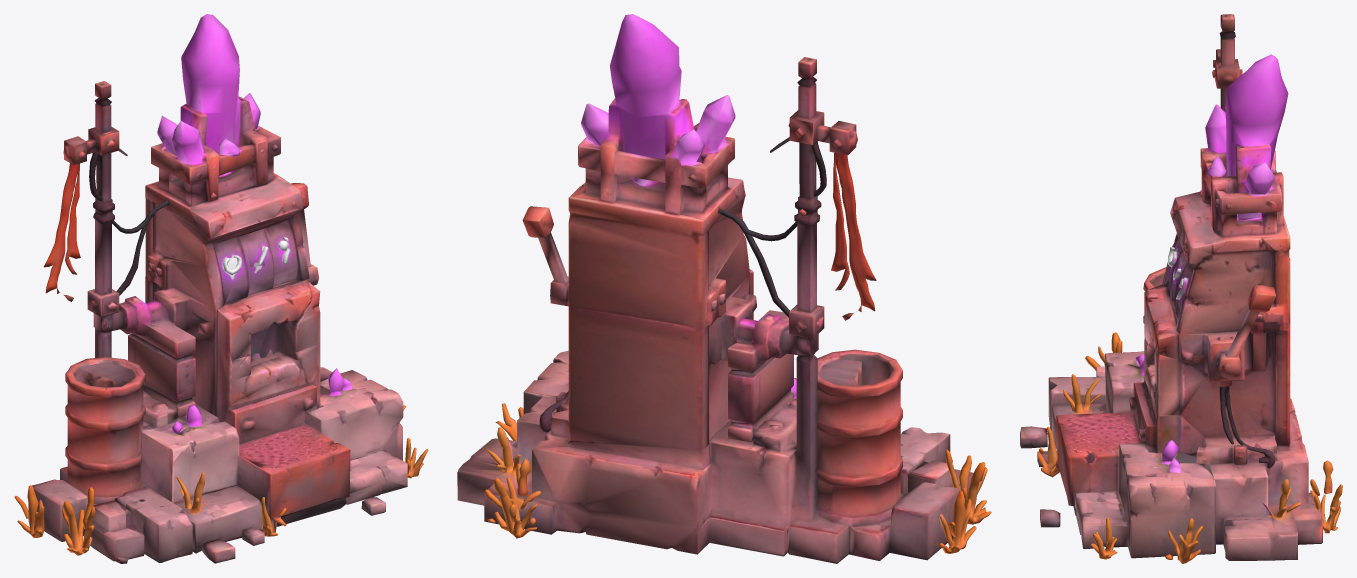
The model's file is gamble_shrine.glb.
3 renders of one model, left to right at view 1: azimuth 30°, elevation 25°; view 2: azimuth 150°, elevation 25°; view 3: azimuth 270°, elevation 25°, orthographic. The views are drawn at different scales.
Visible parts, largest first — view 1: tripo_node_52ba2512-e9d8-48b6-b34f-e7559de420ad; view 2: tripo_node_52ba2512-e9d8-48b6-b34f-e7559de420ad; view 3: tripo_node_52ba2512-e9d8-48b6-b34f-e7559de420ad.
Part boxes in pixels (bbox=[...]): tripo_node_52ba2512-e9d8-48b6-b34f-e7559de420ad: bbox=[14, 14, 428, 563]; tripo_node_52ba2512-e9d8-48b6-b34f-e7559de420ad: bbox=[457, 14, 991, 563]; tripo_node_52ba2512-e9d8-48b6-b34f-e7559de420ad: bbox=[1020, 14, 1342, 563].
Bounding box in the file's own units: 0.9315 × 1 × 0.6614.
1 material, 1 textured.
